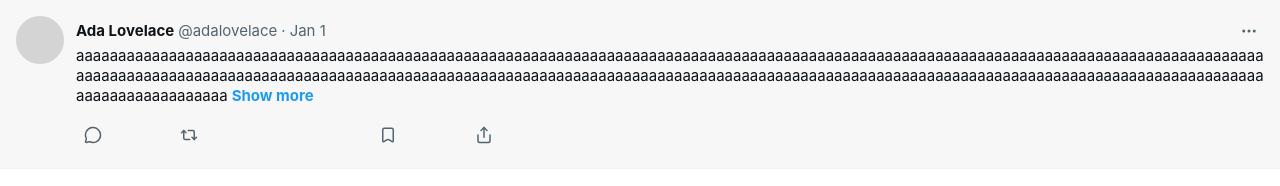
Test: PostItem › truncates long content behind a "Show more" toggle
Click the button "Show more": (273, 96) [232,86,314,106]
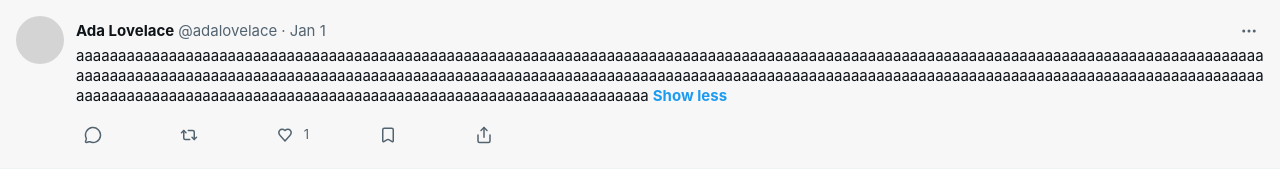
Expected: the button "Show less" is shown, [653,86,727,106]
